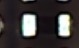COMP: (15, 8, 75, 41)
